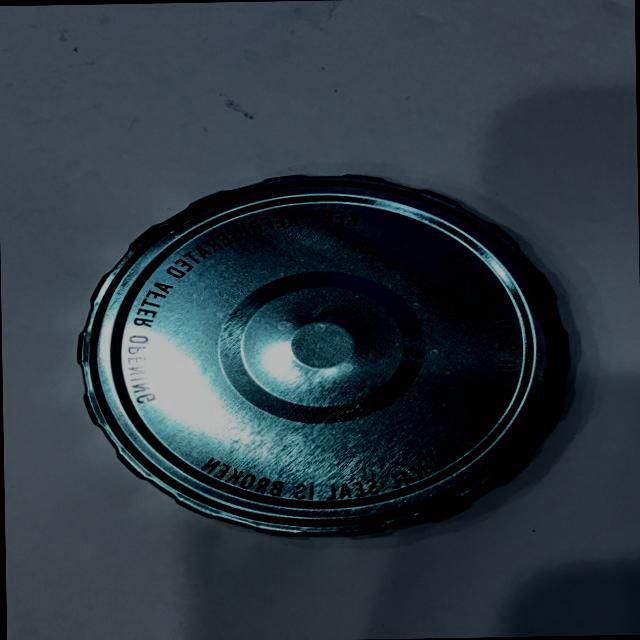metal: (57, 153, 591, 558)
